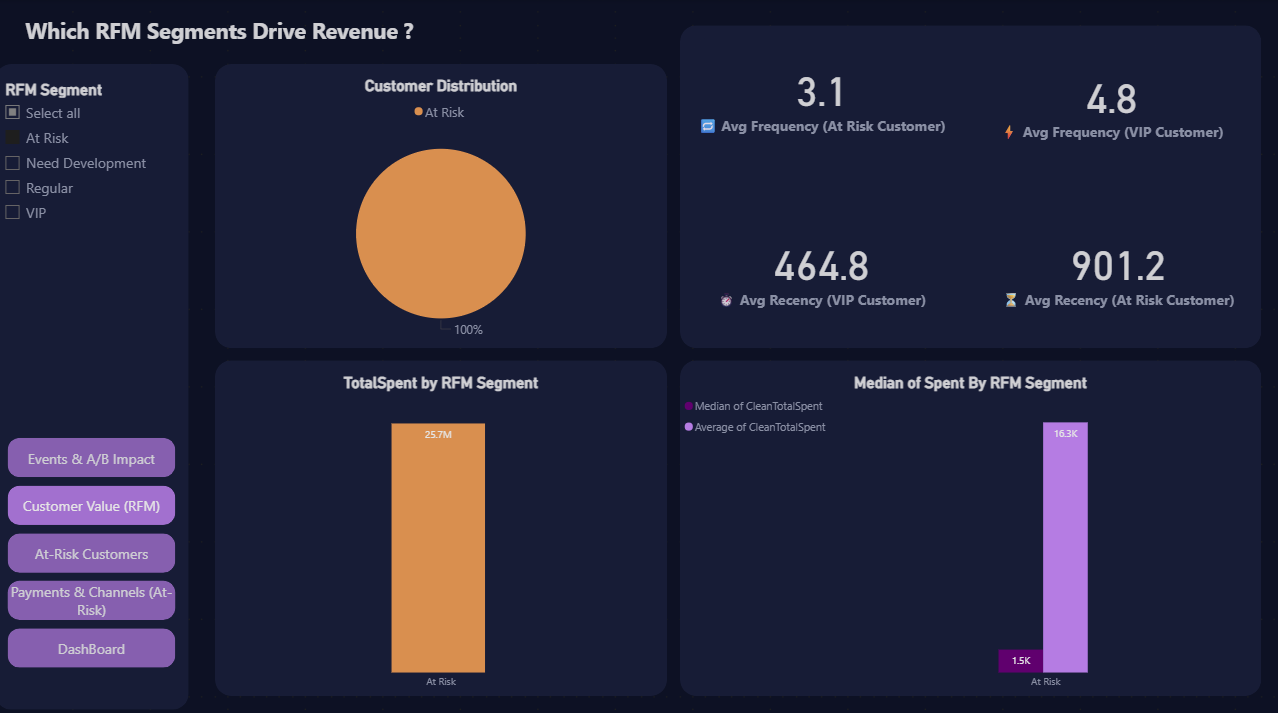

Layout of this report page (visuals, bound fields, positions):
{"tool":"powerbi","page":{"name":"Customer Value (RFM)","canvas":[1600,900],"ordinal":1},"visuals":[{"type":"shape","box":[272,80,560,352],"z":0},{"type":"shape","box":[0,80,240,800],"z":1000},{"type":"shape","box":[848,32,720,400],"z":2000},{"type":"shape","box":[848,448,720,416],"z":3000},{"type":"shape","box":[272,448,560,416],"z":4000},{"type":"shape","box":[864,48,576,336],"z":5000},{"type":"pieChart","title":"Customer Distribution","fields":{"Category":["arpand_ecommerce_dataset.RFM Category"],"Y":["CountNonNull(arpand_ecommerce_dataset.RFM Category)"]},"box":[272,96,560,336],"z":6000},{"type":"clusteredColumnChart","title":"Median of Spent By RFM Segment","fields":{"Category":["arpand_ecommerce_dataset.RFM Category"],"Y":["Median(arpand_ecommerce_dataset.CleanTotalSpent)","Avg(arpand_ecommerce_dataset.CleanTotalSpent)"]},"box":[848,464,720,400],"z":7000},{"type":"lineClusteredColumnComboChart","title":"TotalSpent by RFM Segment","fields":{"Category":["arpand_ecommerce_dataset.RFM Category"],"Y":["Sum(arpand_ecommerce_dataset.CleanTotalSpent)"]},"box":[272,464,560,400],"z":8000},{"type":"slicer","fields":{"Values":["arpand_ecommerce_dataset.RFM Segment"]},"box":[0,96,240,240],"z":9000},{"type":"card","fields":{"Values":["Measure Table.Avg Frequency (At Risk Customer)"]},"box":[848,32,352,176],"z":10000},{"type":"card","fields":{"Values":["Measure Table.Avg Recency (At Risk Customer)"]},"box":[1216,240,352,192],"z":11000},{"type":"card","fields":{"Values":["Measure Table.Avg Recency (VIP Customer)"]},"box":[864,240,320,192],"z":12000},{"type":"card","fields":{"Values":["Measure Table.Avg Frequency (VIP Customer)"]},"box":[1216,32,336,192],"z":13000},{"type":"pageNavigator","box":[16,544,208,288],"z":14000},{"type":"textbox","box":[32,16,560,64],"z":15000}]}

Visuals, with their boxes in screenshot pixels (x1, y1, x2, y2), scaled from the page's 1600x900 canvas onto the 1278x713 screenshot:
shape: 217:63:665:342
shape: 0:63:192:697
shape: 677:25:1252:342
shape: 677:355:1252:684
shape: 217:355:665:684
shape: 690:38:1150:304
"Customer Distribution" pieChart: 217:76:665:342
"Median of Spent By RFM Segment" clusteredColumnChart: 677:368:1252:684
"TotalSpent by RFM Segment" lineClusteredColumnComboChart: 217:368:665:684
slicer - arpand_ecommerce_dataset.RFM Segment: 0:76:192:266
card - Measure Table.Avg Frequency (At Risk Customer): 677:25:958:165
card - Measure Table.Avg Recency (At Risk Customer): 971:190:1252:342
card - Measure Table.Avg Recency (VIP Customer): 690:190:946:342
card - Measure Table.Avg Frequency (VIP Customer): 971:25:1240:177
pageNavigator: 13:431:179:659
textbox: 26:13:473:63
